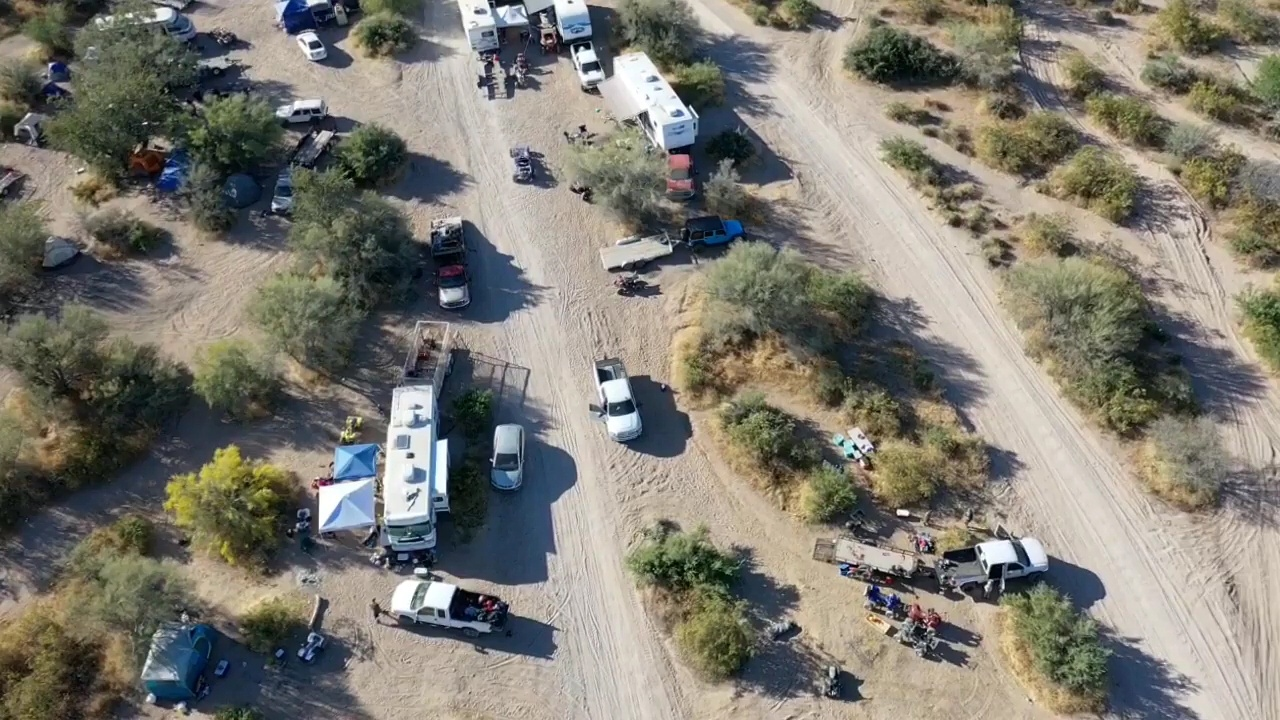araba: (489, 419, 532, 491), (683, 209, 748, 251), (660, 149, 695, 203), (437, 260, 473, 309), (273, 97, 331, 121), (295, 27, 328, 60)
insan: (368, 591, 387, 624)
kamyon: (938, 532, 1064, 596)
kamyonet: (388, 571, 511, 634), (591, 351, 649, 443), (570, 37, 602, 94)
otobus: (374, 374, 437, 559), (92, 2, 200, 55)
